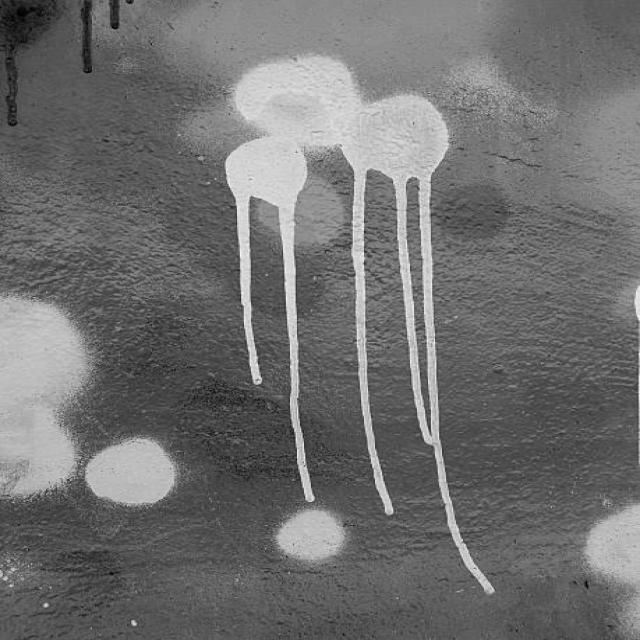paint drips: (342, 157, 502, 599), (223, 184, 318, 508), (63, 0, 141, 88), (0, 21, 35, 139)
